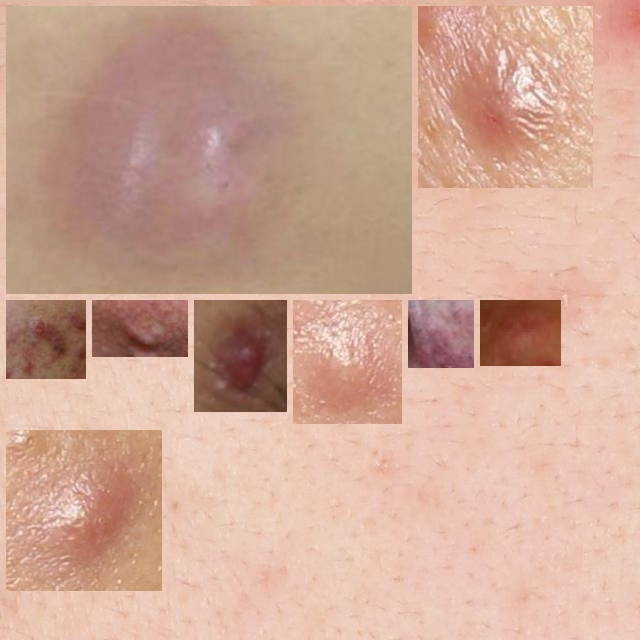nodule: (14, 14, 404, 286), (426, 14, 585, 180), (14, 438, 154, 583), (301, 308, 394, 416), (202, 308, 279, 404), (14, 308, 78, 371), (100, 308, 180, 349), (488, 308, 553, 358), (416, 308, 466, 360)
